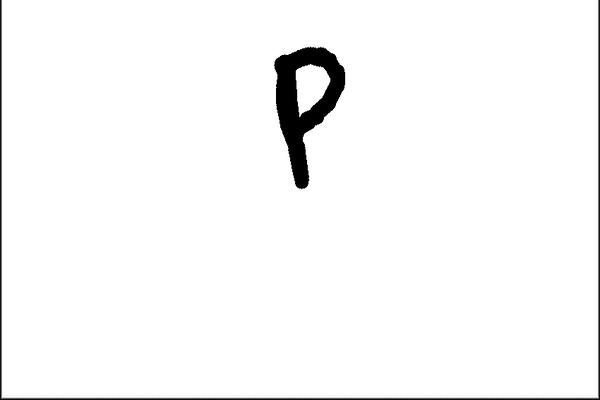P: (261, 40, 354, 191)
